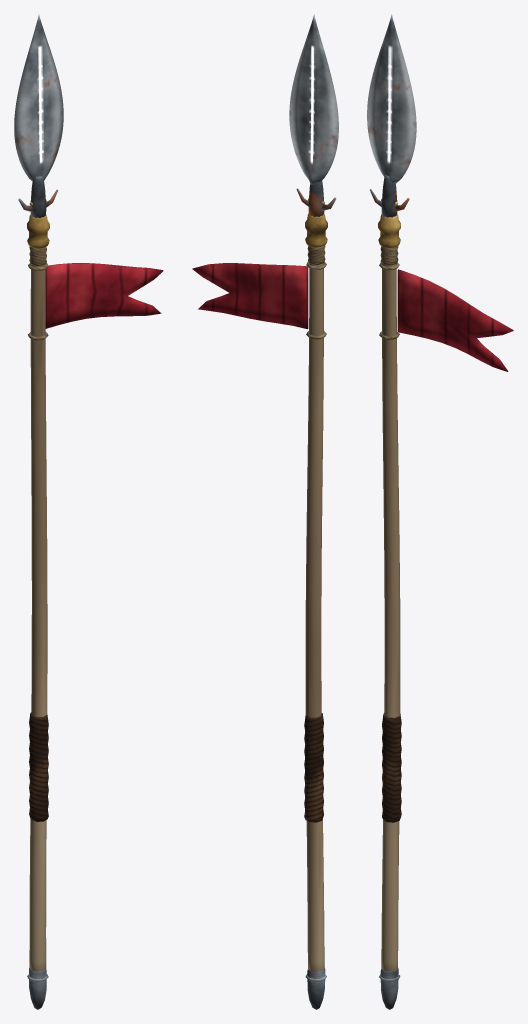
File: Spear.fbx
3 views of the same model, side by side, from view 1: azimuth 30°, elevation 25°; view 2: azimuth 150°, elevation 25°; view 3: azimuth 330°, elevation 25° (orthographic).
Visible parts, largest first — view 1: Spear; view 2: Spear; view 3: Spear.
Boxes of the visible parts, x1,y1,x2,y2 form: Spear: (14,14,163,1009); Spear: (192,14,338,1009); Spear: (367,14,513,1009).
Size of the model in its own units: 0.3852 by 2.48 by 0.053.
